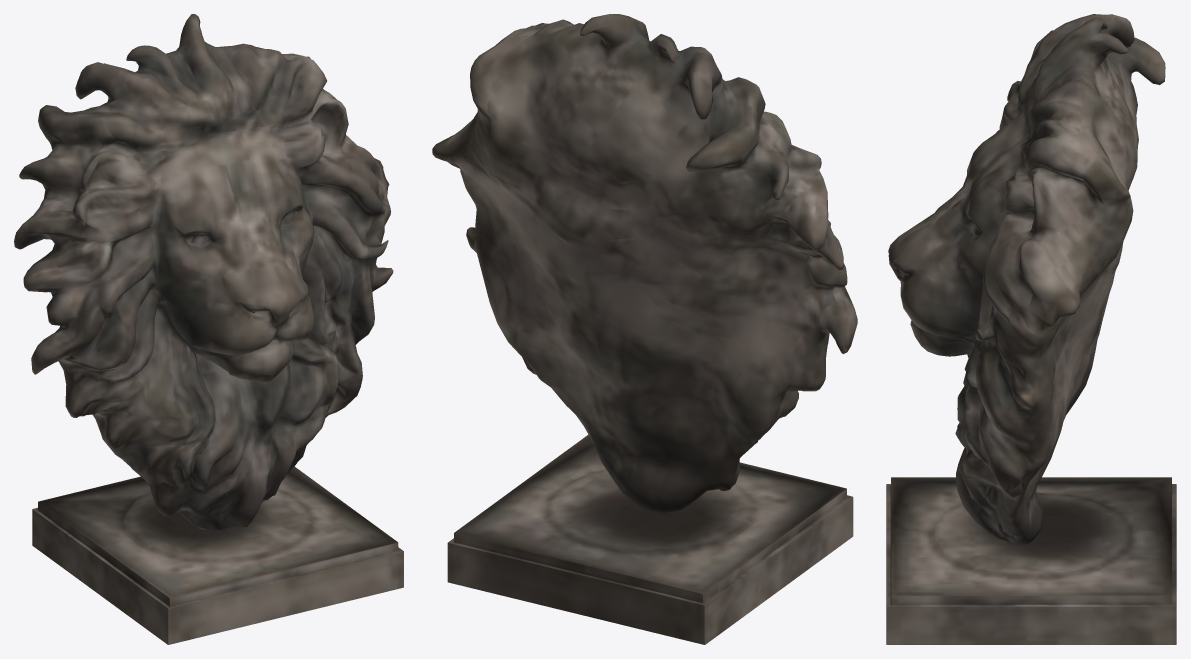
File: singha_lo.glb
3 views of the same model, side by side, from view 1: azimuth 30°, elevation 25°; view 2: azimuth 150°, elevation 25°; view 3: azimuth 270°, elevation 25° (orthographic). The views are drawn at different scales.
Parts seen in each view (by area): view 1: lion_head; view 2: lion_head; view 3: lion_head.
Boxes of the visible parts, bbox=[...] form: lion_head: bbox=[14, 14, 403, 644]; lion_head: bbox=[432, 14, 857, 644]; lion_head: bbox=[886, 14, 1176, 644].
Size of the model in its own units: 0.3208 by 0.4358 by 0.2066.
Materials: 1 (1 with a texture image).
